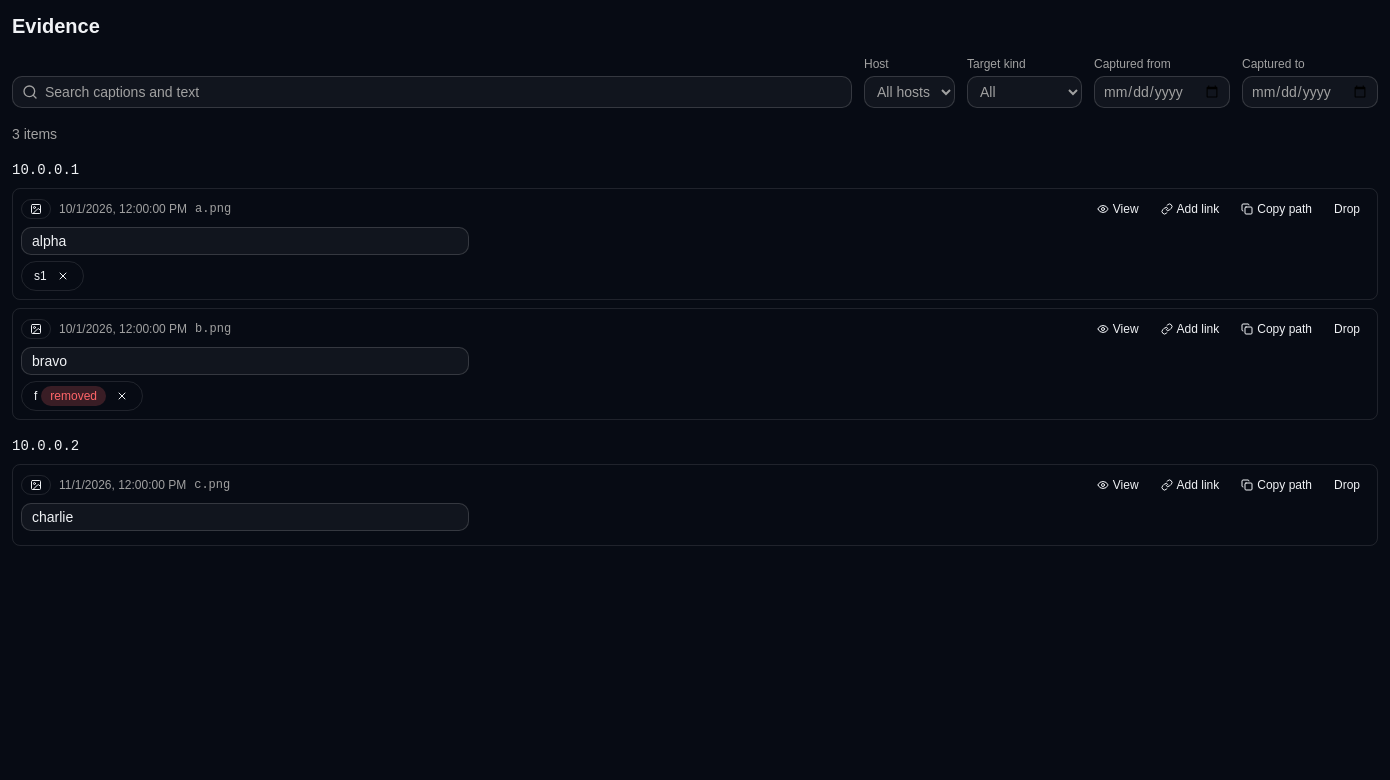
Test: EvidencePage › keeps every item listed while the search is pending
expect the list item with test id "evidence-a" is shown: met, box [12,188,1378,300]
Type "needle" into the field named "Search evidence". click: [432, 92]
box: [12,76,852,108]
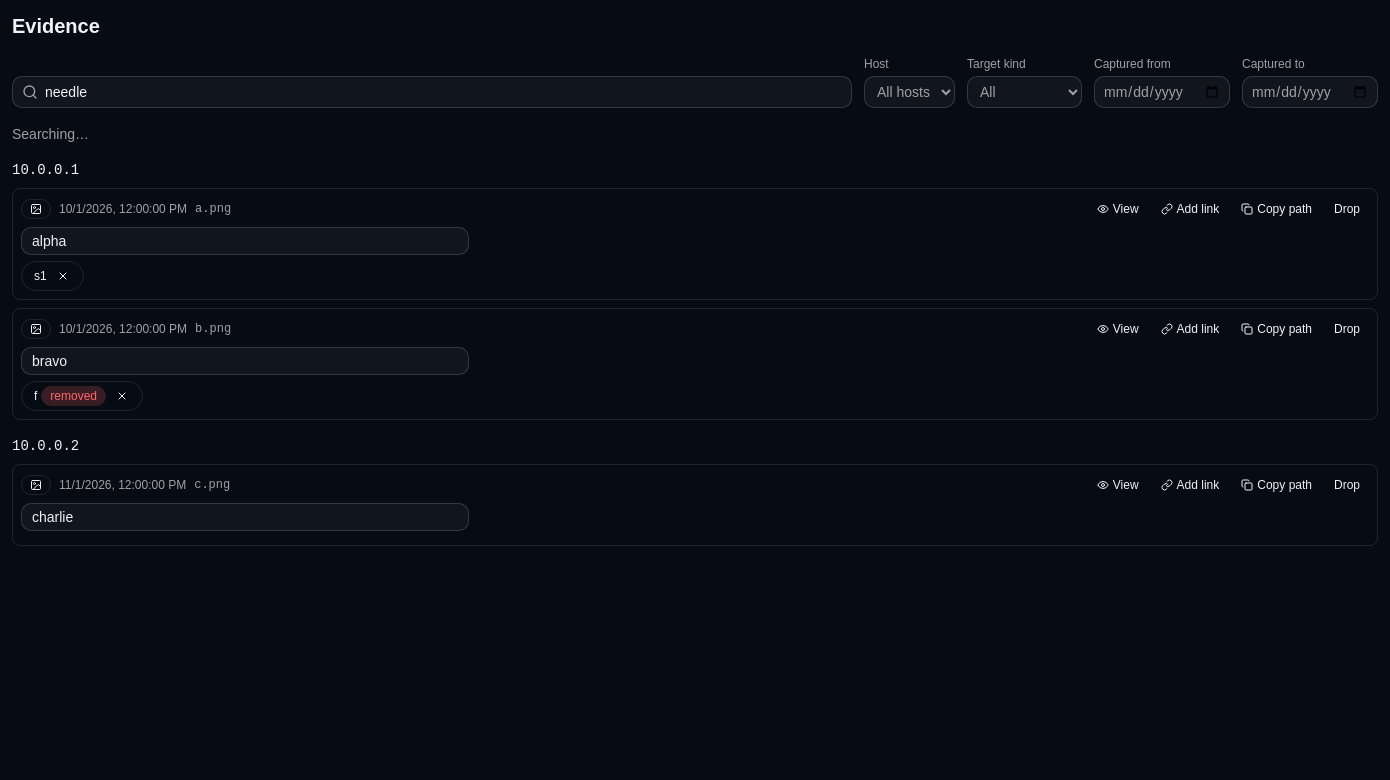
expect the text "Searching…" is shown: met, box [12,126,89,142]
